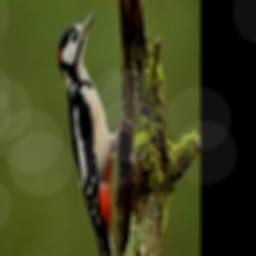Woodpecker: (58, 10, 134, 256)
